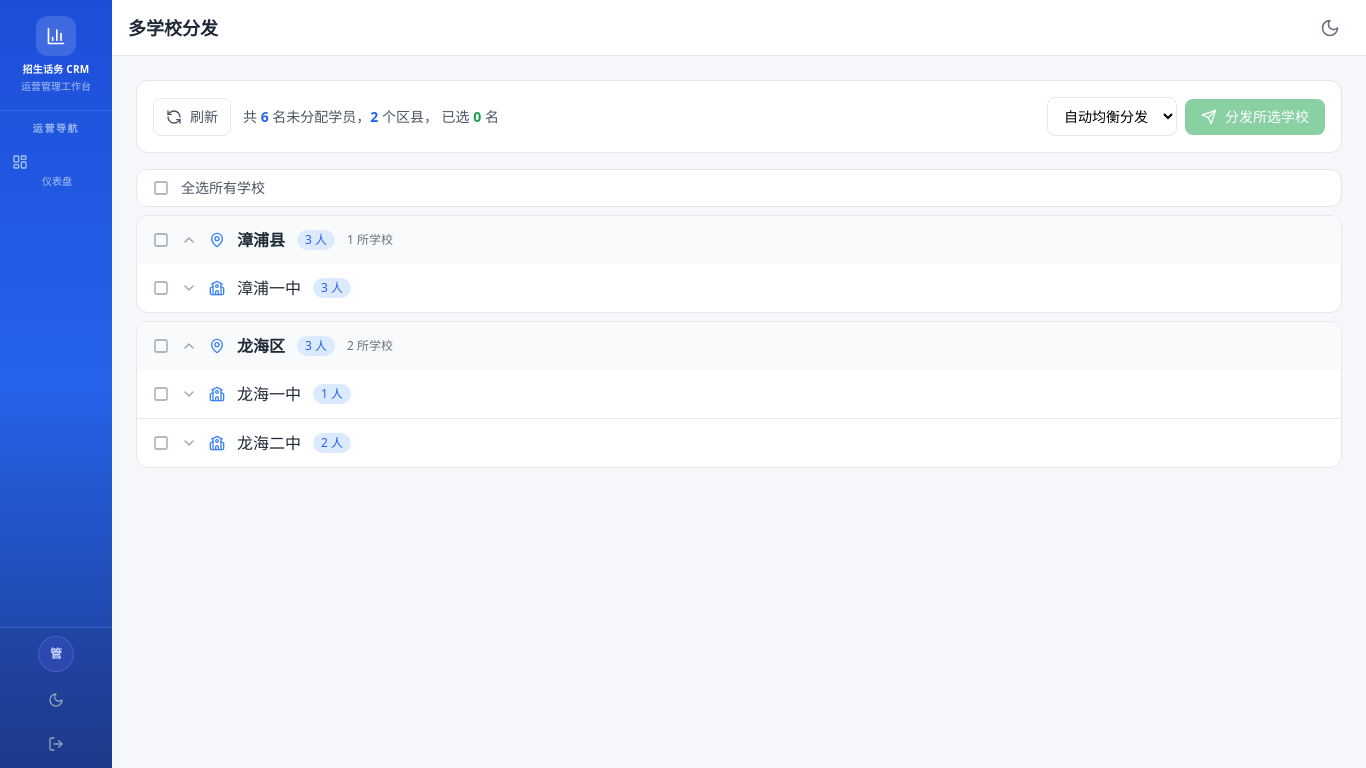
Test: DistributeBySchools › clears the previous school students when the next school request fails
What coordinates should you click on to do the following:
click the text "龙海一中"
I would click on:
 (269, 394)
Its box is [237,382,301,406].
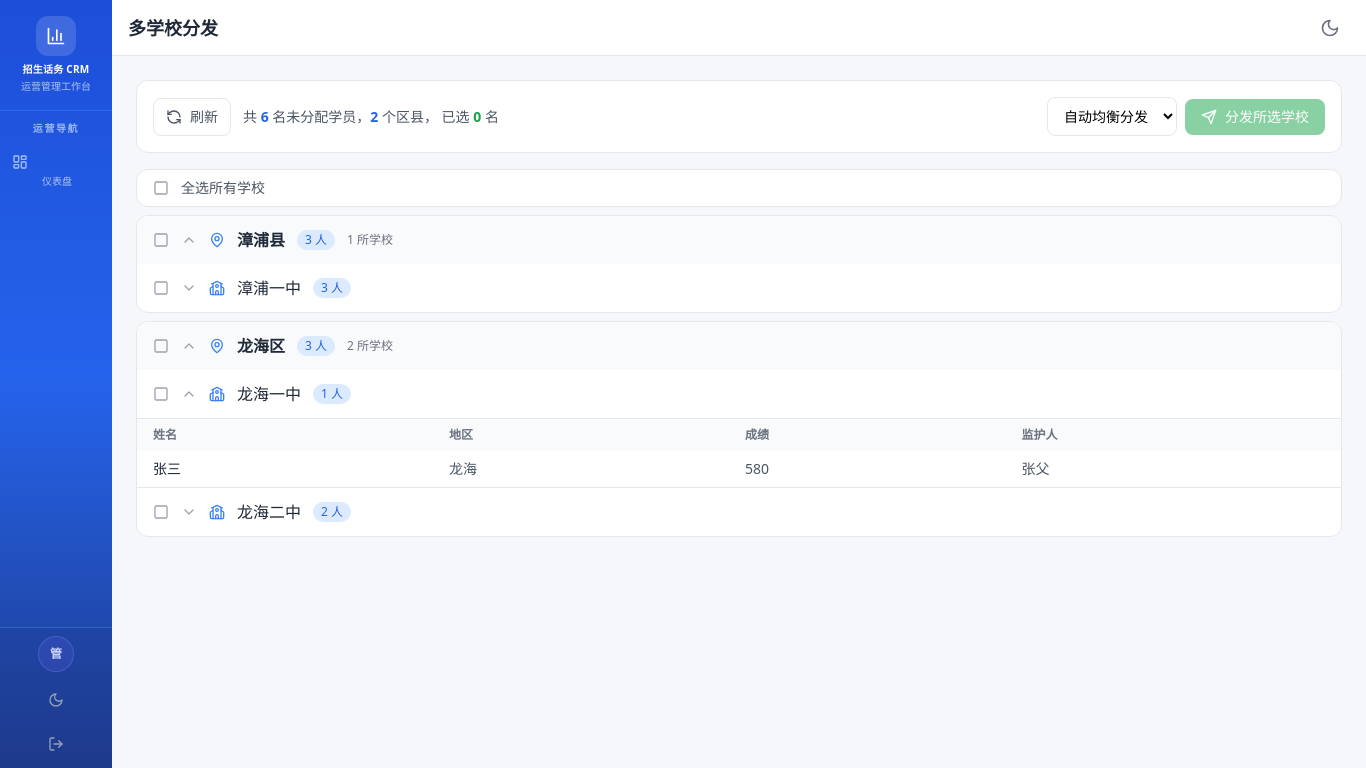
Now the text "张三" is shown, box [137,451,433,487]
What coordinates should you click on to do the following:
click the text "龙海二中"
I would click on:
 (269, 512)
Its box is [237,500,301,524].
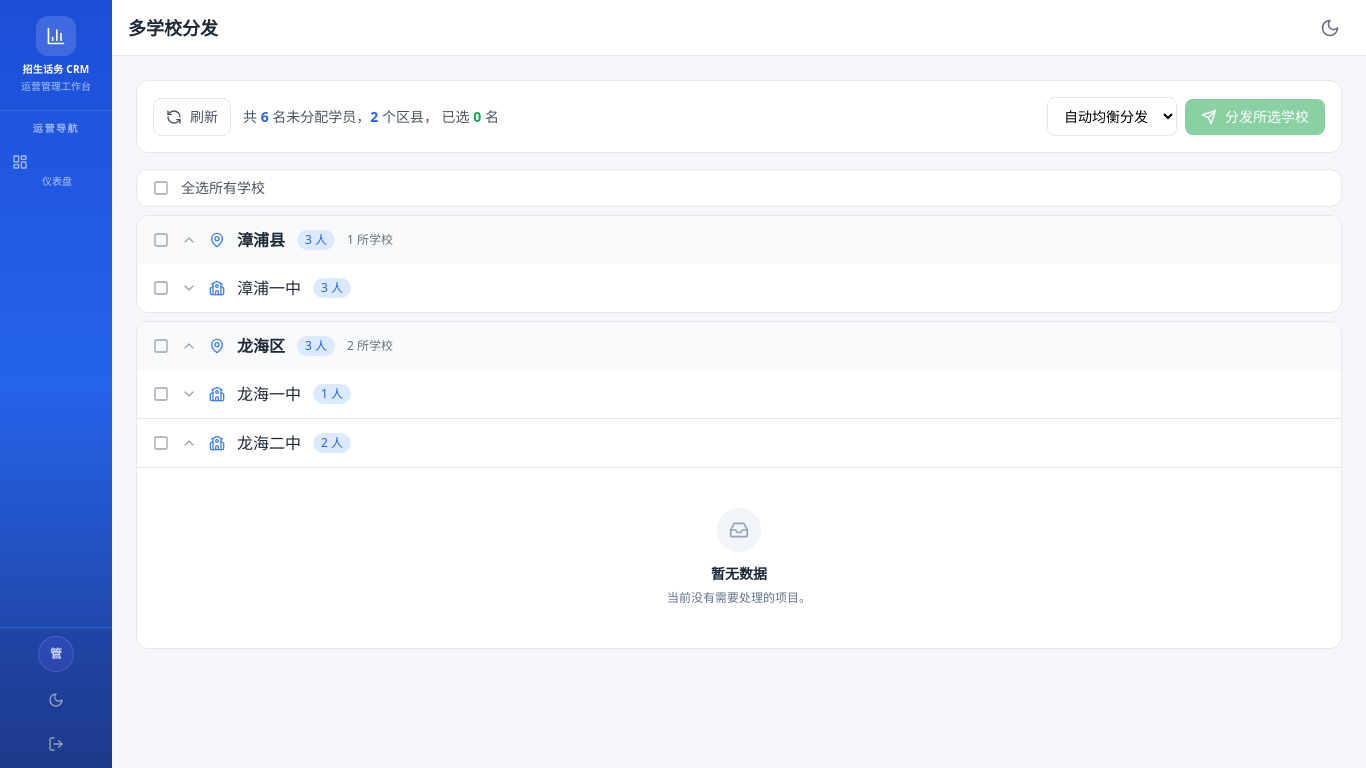
Now the heading "暂无数据" is shown, box [711,564,767,583]
Now the text "张三" is gone
